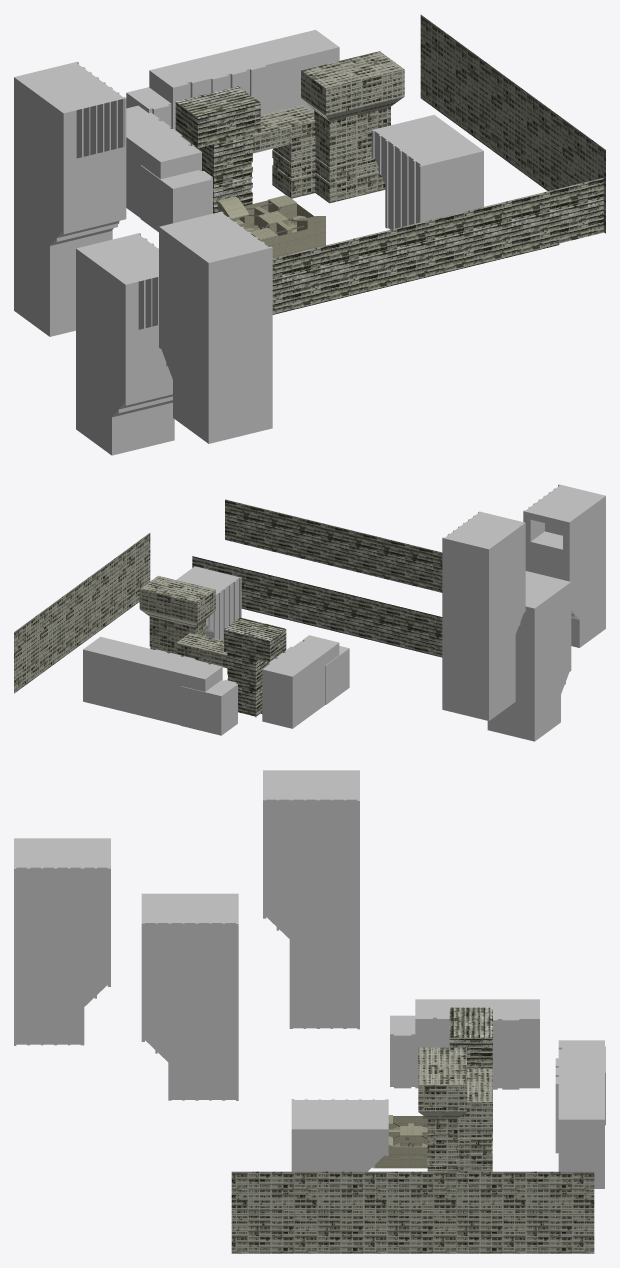
File: SM_LDFest_10.fbx
The picture shows the model from 3 angles, top to bottom: view 1: azimuth 30°, elevation 25°; view 2: azimuth 150°, elevation 25°; view 3: azimuth 270°, elevation 25°; orthographic projection. The views are drawn at different scales.
Visible parts, largest first — view 1: SM_LDFest_10.002, SM_LDFest_10; view 2: SM_LDFest_10.002; view 3: SM_LDFest_10.002, SM_LDFest_10.
Part boxes in pixels (x1,y1,x2,y2): SM_LDFest_10.002: (14, 14, 605, 455); SM_LDFest_10: (217, 195, 325, 258); SM_LDFest_10.002: (14, 484, 605, 741); SM_LDFest_10.002: (14, 770, 605, 1253); SM_LDFest_10: (375, 1115, 427, 1168).
Size of the model in its own units: 42067 by 23434 by 41893.
